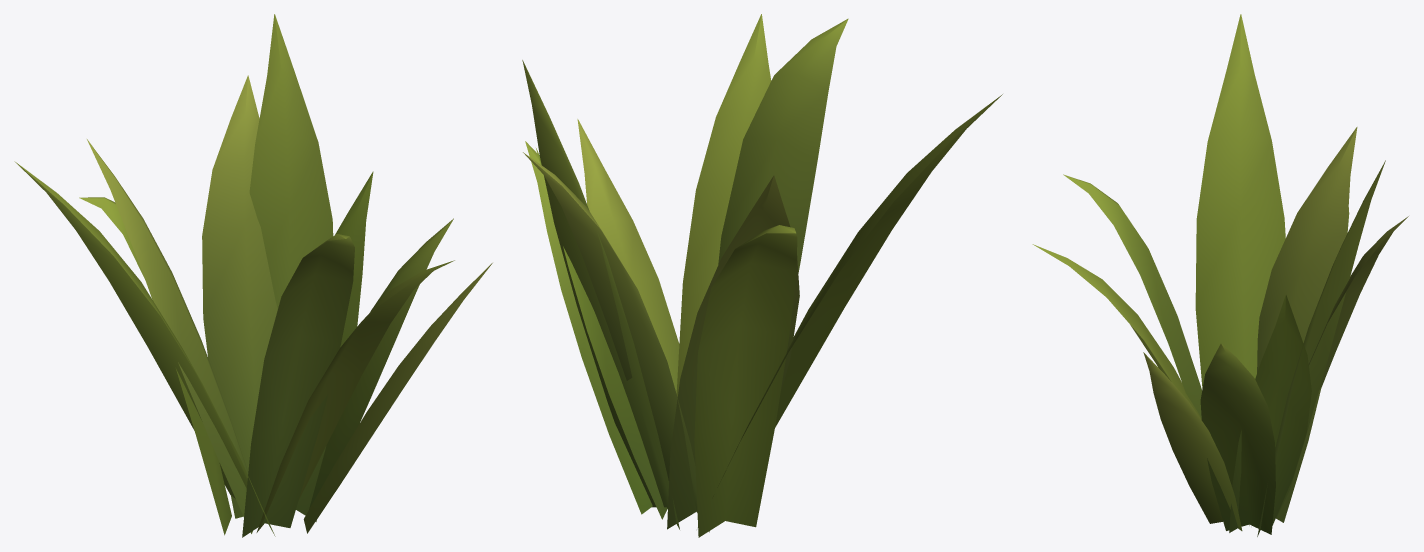
Rendered from grass_reed_arch.glb.
The picture shows the model from 3 angles, left to right: view 1: azimuth 30°, elevation 25°; view 2: azimuth 150°, elevation 25°; view 3: azimuth 270°, elevation 25°; orthographic projection. The views are drawn at different scales.
Visible parts, largest first — view 1: Plant; view 2: Plant; view 3: Plant.
Boxes of the visible parts, box(x1,y1,x2,y2) form: Plant: box(14, 14, 492, 537); Plant: box(522, 14, 1002, 537); Plant: box(1032, 14, 1408, 536).
Size of the model in its own units: 0.5621 by 0.5449 by 0.4732.
